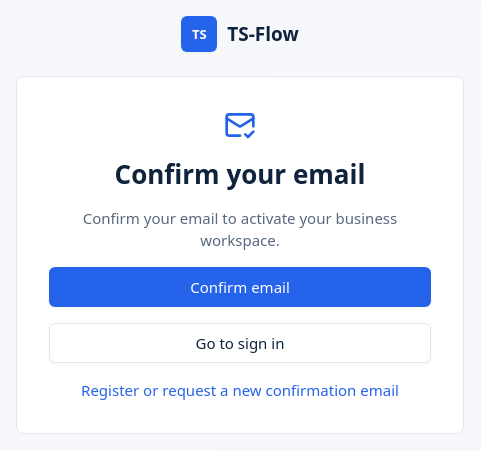
Test: manual signup confirmation › does not enter a workspace without confirmed active membership
This screenshot has width=481, height=451.
Click the button "Confirm email" at (240,287), box top-left (49, 267), bottom-right (431, 307)
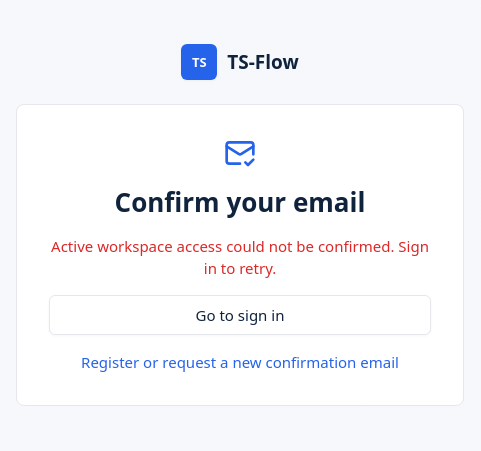
Result: the message shows "Active workspace access could not be confirmed" at top-left (51, 236), bottom-right (429, 278)
